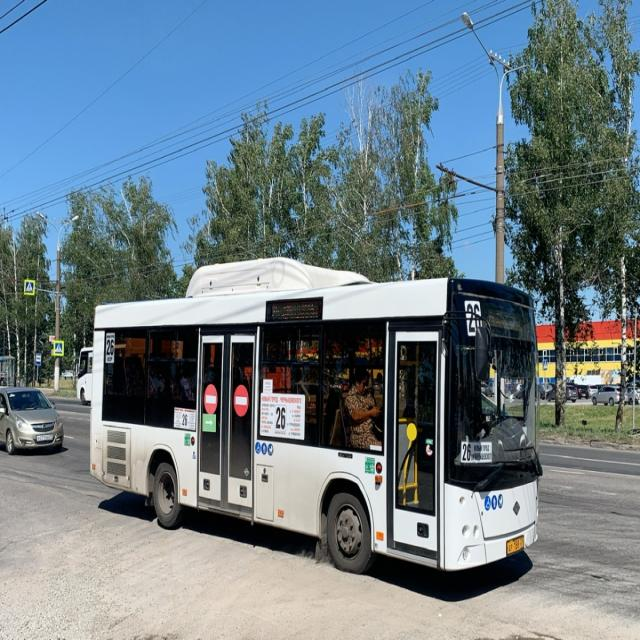number-of-bus: (275, 407, 289, 435)
